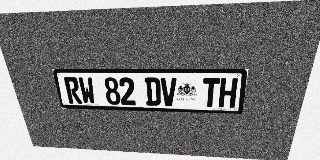2: (118, 77, 136, 105)
8: (103, 77, 121, 105)
D: (144, 77, 161, 106)
H: (218, 78, 238, 108)
R: (63, 77, 82, 104)
T: (202, 78, 220, 107)
V: (161, 78, 176, 106)
W: (78, 77, 96, 104)
